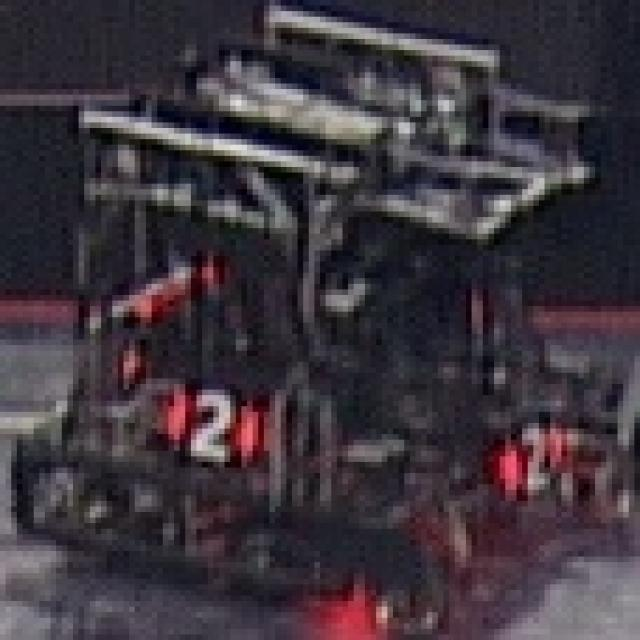R2: (157, 378, 258, 462), (494, 418, 567, 496)
